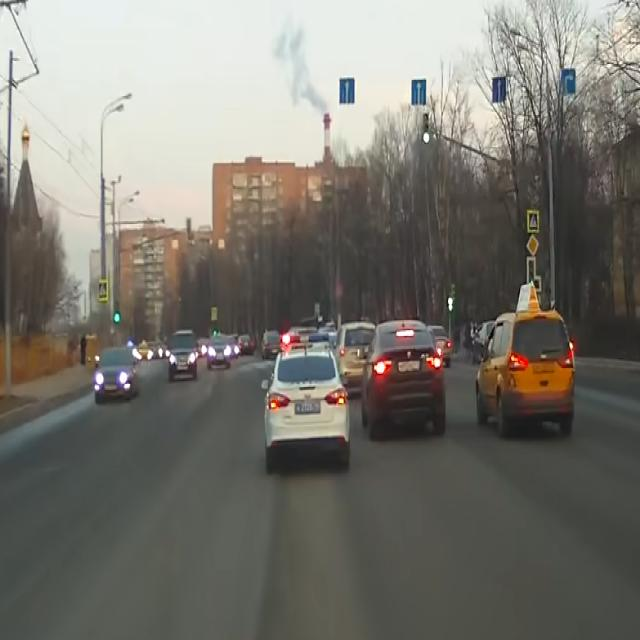non emergency car: (478, 306, 577, 438), (362, 317, 448, 440), (335, 317, 382, 394), (95, 344, 139, 408), (168, 326, 200, 381), (206, 328, 232, 372)
police car: (264, 336, 350, 472)
